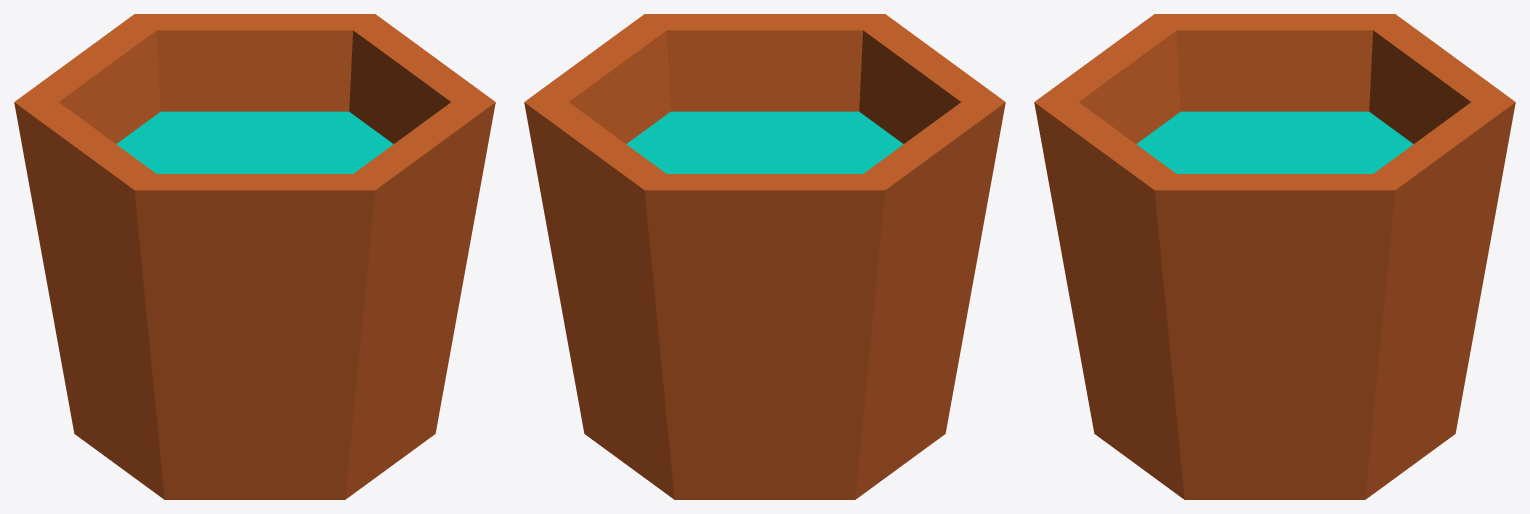
Rendered from Water_Bucket.fbx.
3 views of the same model, side by side, from view 1: azimuth 30°, elevation 25°; view 2: azimuth 150°, elevation 25°; view 3: azimuth 270°, elevation 25° (orthographic).
Parts seen in each view (by area): view 1: Water_Bucket; view 2: Water_Bucket; view 3: Water_Bucket.
Boxes of the visible parts, x1=… form: Water_Bucket: x1=14, y1=14, x2=495, y2=499; Water_Bucket: x1=524, y1=14, x2=1005, y2=499; Water_Bucket: x1=1034, y1=14, x2=1515, y2=499.
Size of the model in its own units: 43.3 by 38 by 50.
